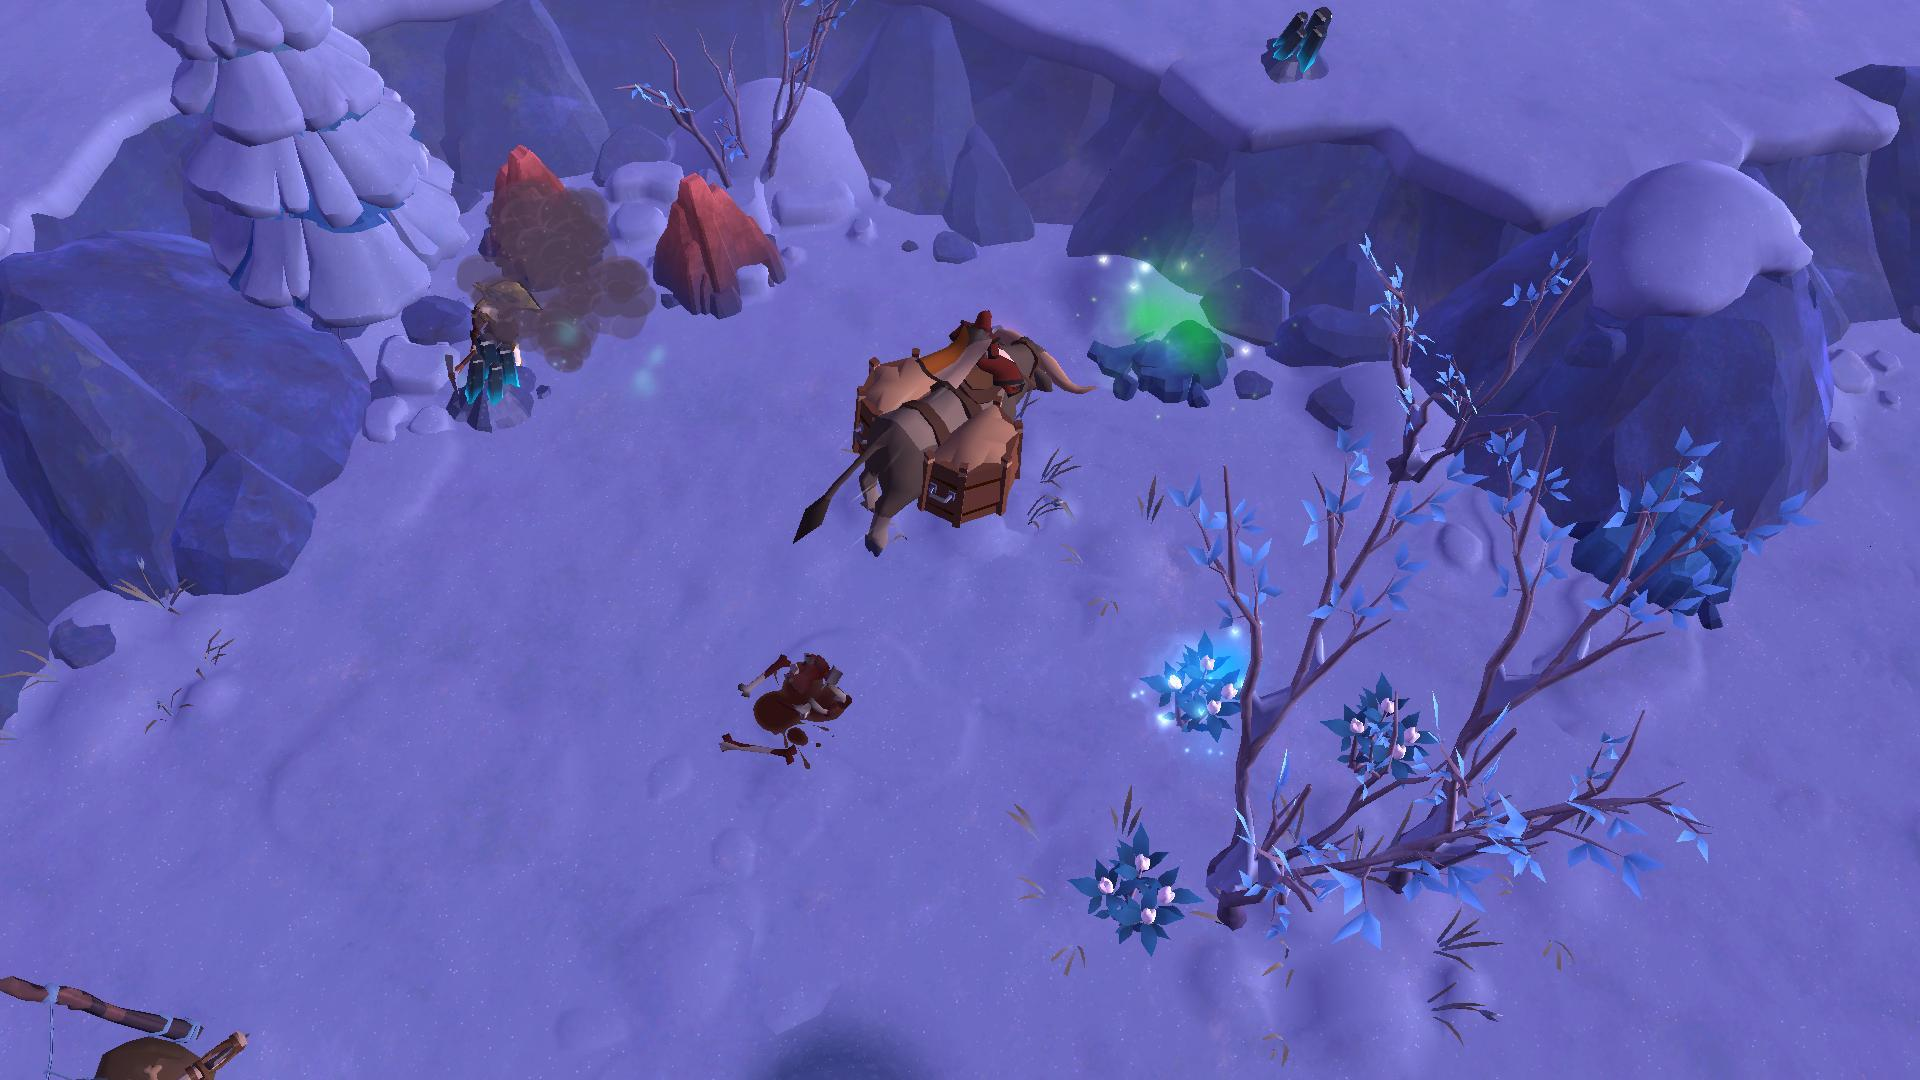fiber_t4: (1079, 823, 1193, 947), (1135, 638, 1244, 738), (1331, 682, 1425, 791)
ore_t4: (1261, 7, 1344, 79), (455, 340, 522, 415)
rock_t5: (644, 170, 790, 305)
